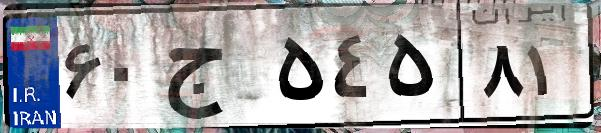0: (110, 28, 158, 98)
1: (525, 38, 570, 115)
4: (330, 28, 385, 110)
5: (270, 28, 330, 110), (385, 28, 445, 110)
6: (57, 26, 110, 100)
8: (475, 38, 525, 113)
ج: (158, 20, 270, 120)
